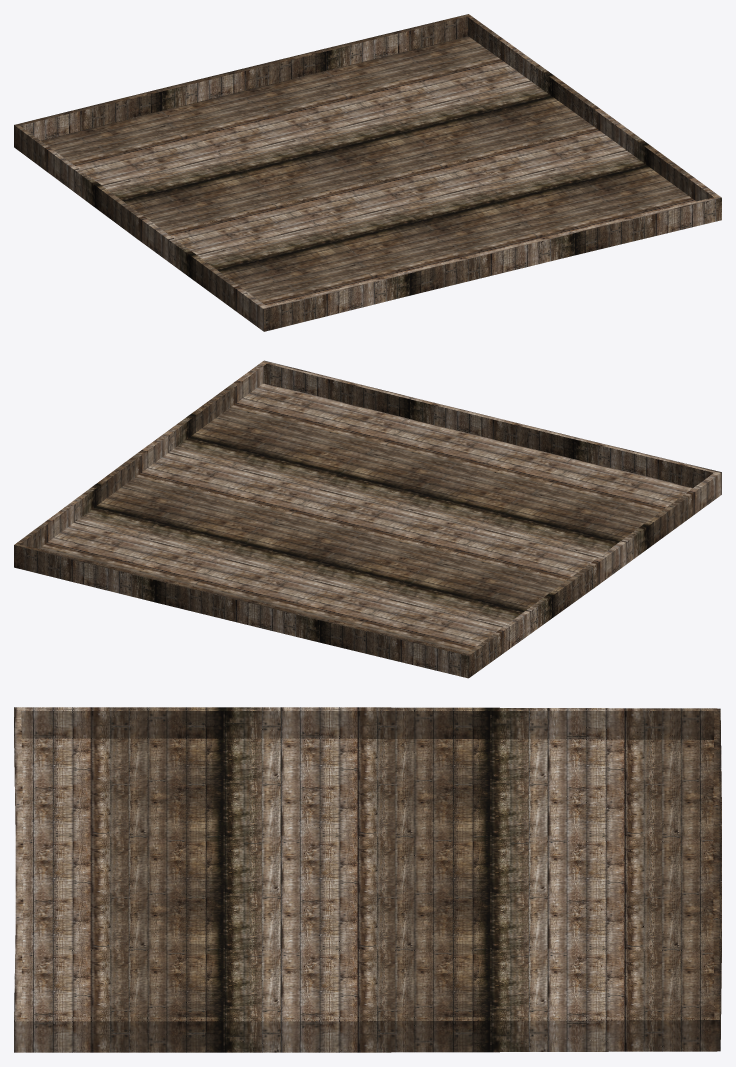
Rendered from cabinBase_01_LOD2.FBX.
The picture shows the model from 3 angles, top to bottom: view 1: azimuth 30°, elevation 25°; view 2: azimuth 150°, elevation 25°; view 3: azimuth 270°, elevation 25°; orthographic projection. The views are drawn at different scales.
Parts seen in each view (by area): view 1: cabinBase_01_LOD2; view 2: cabinBase_01_LOD2; view 3: cabinBase_01_LOD2.
Boxes of the visible parts, <box> form: cabinBase_01_LOD2: <box>14,14,721,331</box>; cabinBase_01_LOD2: <box>14,360,721,678</box>; cabinBase_01_LOD2: <box>14,707,721,1052</box>.
Size of the model in its own units: 43.07 by 2.01 by 41.07.
1 material, 1 textured.
